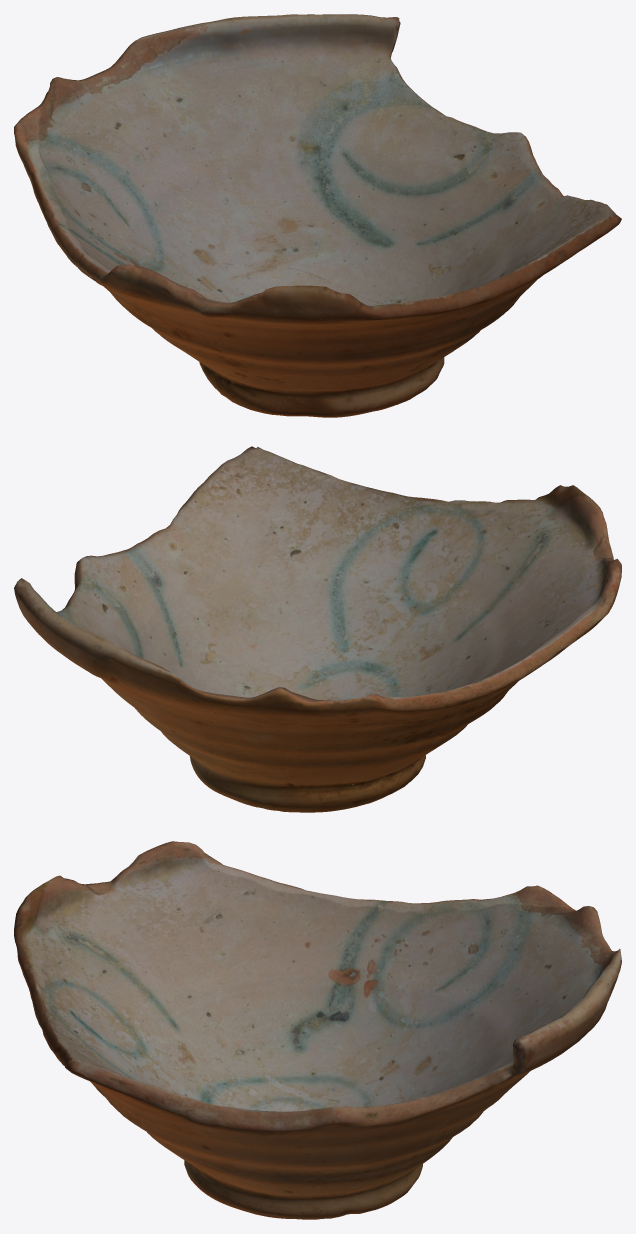
File: obj_cuenco_cer_mico_ceramic_bowl_d50f55.glb
The picture shows the model from 3 angles, top to bottom: view 1: azimuth 30°, elevation 25°; view 2: azimuth 150°, elevation 25°; view 3: azimuth 270°, elevation 25°; orthographic projection. The views are drawn at different scales.
Visible parts, largest first — view 1: obj_cuenco_cer_mico_ceramic_bowl_d50f55; view 2: obj_cuenco_cer_mico_ceramic_bowl_d50f55; view 3: obj_cuenco_cer_mico_ceramic_bowl_d50f55.
Part boxes in pixels (<box>): obj_cuenco_cer_mico_ceramic_bowl_d50f55: <box>14,14,621,417</box>; obj_cuenco_cer_mico_ceramic_bowl_d50f55: <box>14,446,621,812</box>; obj_cuenco_cer_mico_ceramic_bowl_d50f55: <box>14,841,621,1219</box>.
Size of the model in its own units: 0.6602 by 0.3 by 0.7287.
1 material, 1 textured.
